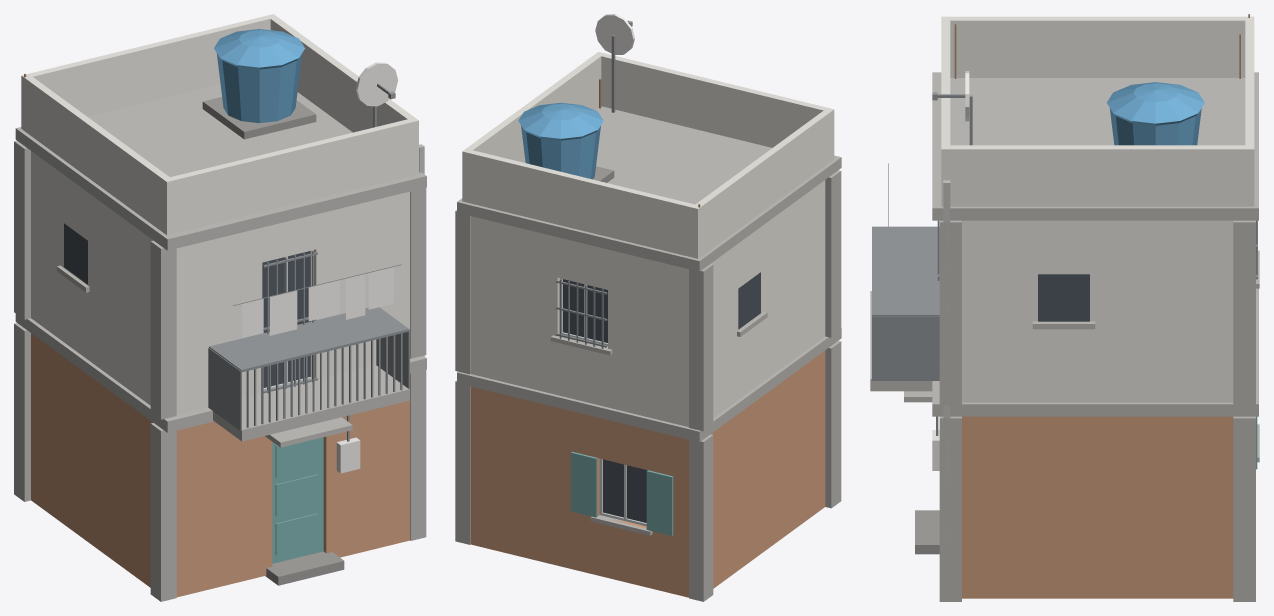
3 renders of one model, left to right at view 1: azimuth 30°, elevation 25°; view 2: azimuth 150°, elevation 25°; view 3: azimuth 270°, elevation 25°, orthographic. The views are drawn at different scales.
Visible parts, largest first — view 1: fv_h01; view 2: fv_h01; view 3: fv_h01.
Part boxes in pixels (x1=…): fv_h01: x1=14, y1=14, x2=426, y2=601; fv_h01: x1=455, y1=14, x2=841, y2=601; fv_h01: x1=870, y1=14, x2=1259, y2=601.
Bounding box in the file's own units: 4.42 × 7.56 × 5.22.
